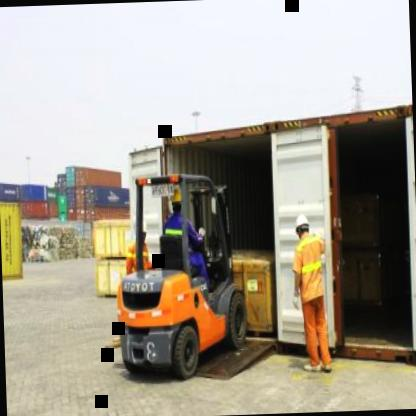helmet: (290, 211, 314, 244), (168, 184, 190, 214), (130, 214, 151, 244)
